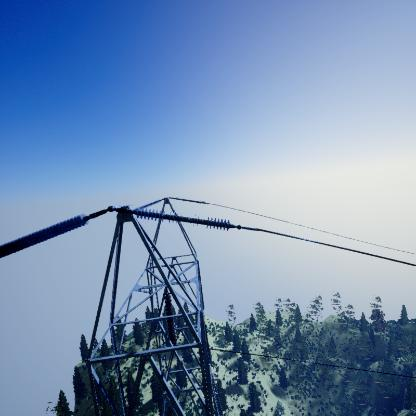insulator: (1, 214, 87, 257), (135, 207, 232, 231), (163, 292, 179, 347)
